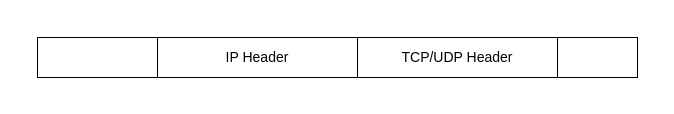
The diagram is 674 pixels wide and 114 high, and some of its shapes have lost their labels. The shapes that lost their labels are listed below. From the top down, each one's box as (x1, y1, x2, y2) in pixels, then its label:
(36, 36, 158, 78): Ethernet Header
(556, 36, 638, 78): Data
